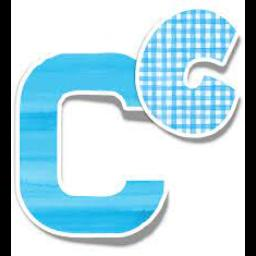c: (14, 46, 174, 252), (134, 8, 242, 144)
